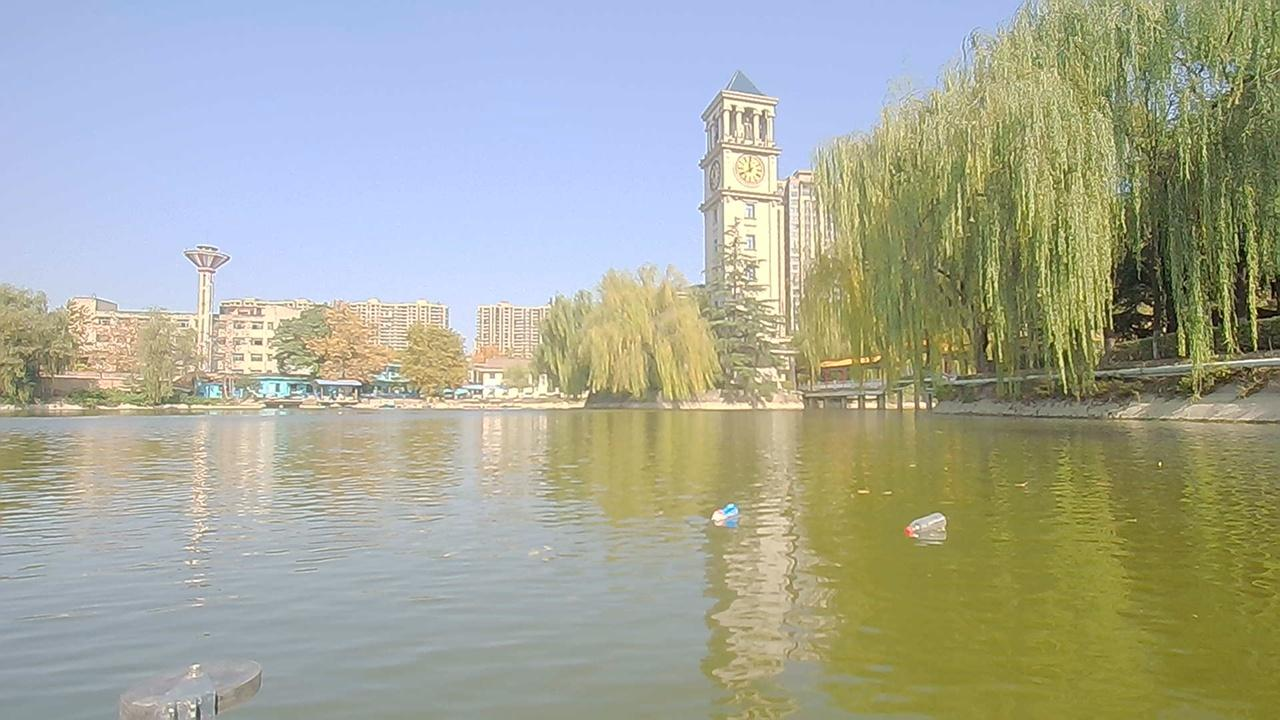bottle: (902, 510, 947, 534), (711, 501, 739, 520)
